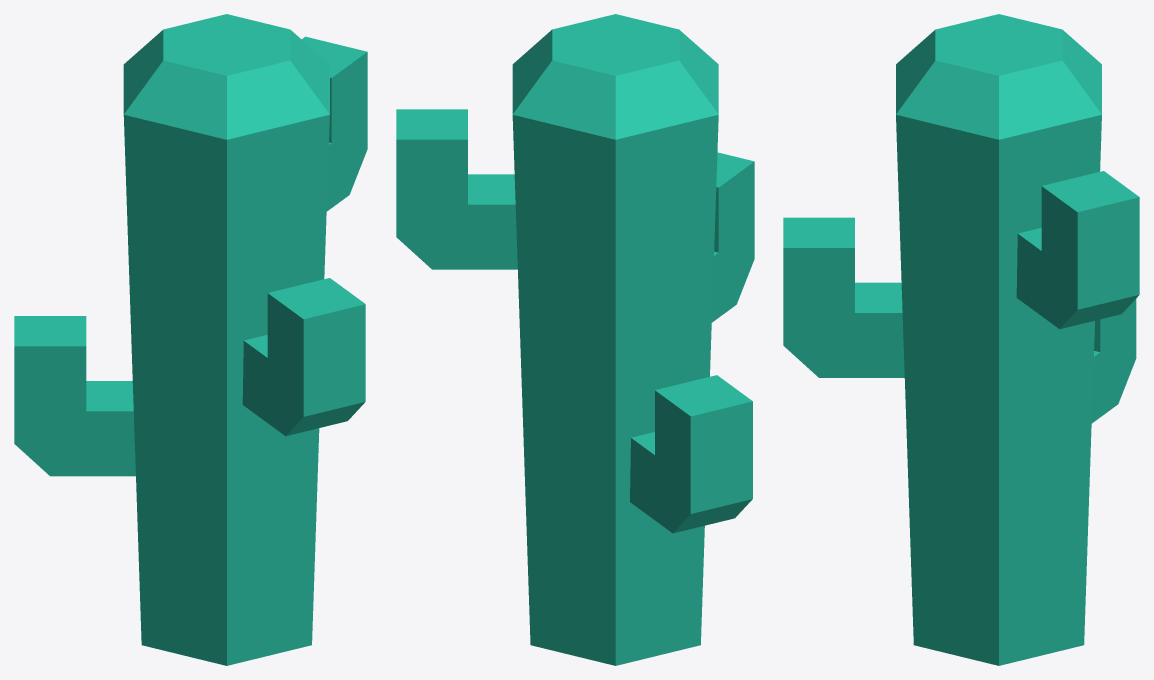
Rendered from k-cactus-short.glb.
The picture shows the model from 3 angles, left to right: view 1: azimuth 30°, elevation 25°; view 2: azimuth 150°, elevation 25°; view 3: azimuth 270°, elevation 25°; orthographic projection.
Parts seen in each view (by area): view 1: cactus_short; view 2: cactus_short; view 3: cactus_short.
Boxes of the visible parts, x1,y1,x2,y2 form: cactus_short: (14,14,367,665); cactus_short: (396,14,754,665); cactus_short: (783,14,1139,665).
Size of the model in its own units: 0.3417 by 0.533 by 0.2972.
